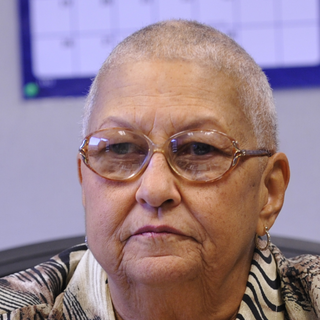eye: (168, 135, 224, 167), (94, 140, 146, 162)
